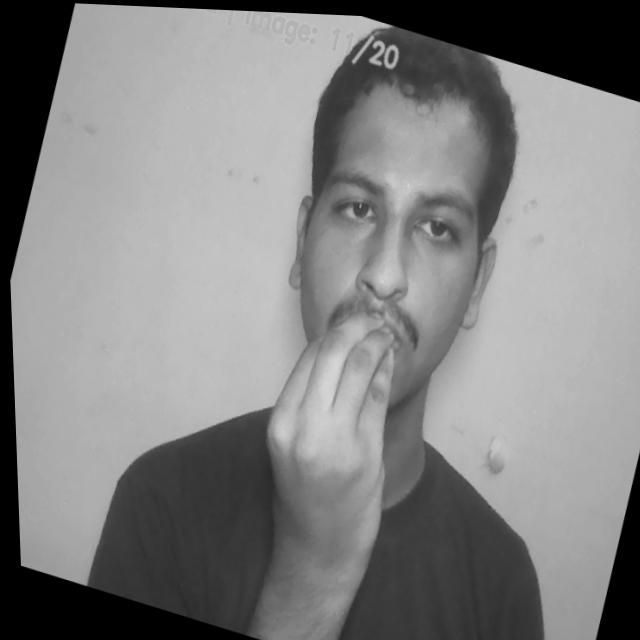Food: (206, 276, 436, 640)
